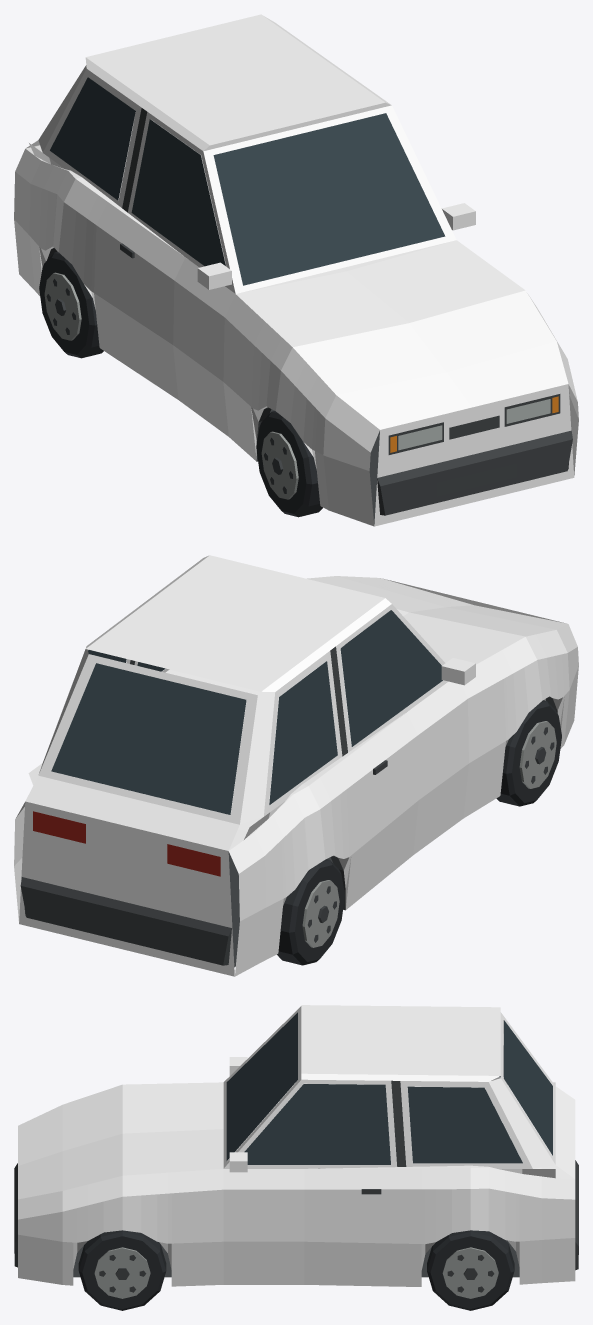
File: lindauer_sperber.glb
The picture shows the model from 3 angles, top to bottom: view 1: azimuth 30°, elevation 25°; view 2: azimuth 150°, elevation 25°; view 3: azimuth 270°, elevation 25°; orthographic projection. The views are drawn at different scales.
Visible parts, largest first — view 1: lindauer_sperber; view 2: lindauer_sperber; view 3: lindauer_sperber.
Boxes of the visible parts, x1,y1,x2,y2 form: lindauer_sperber: [14, 14, 578, 526]; lindauer_sperber: [14, 555, 578, 976]; lindauer_sperber: [14, 1005, 578, 1310].
Bounding box in the file's own units: 1.63 × 1.62 × 3.73.
Materials: 8 (1 with a texture image).
